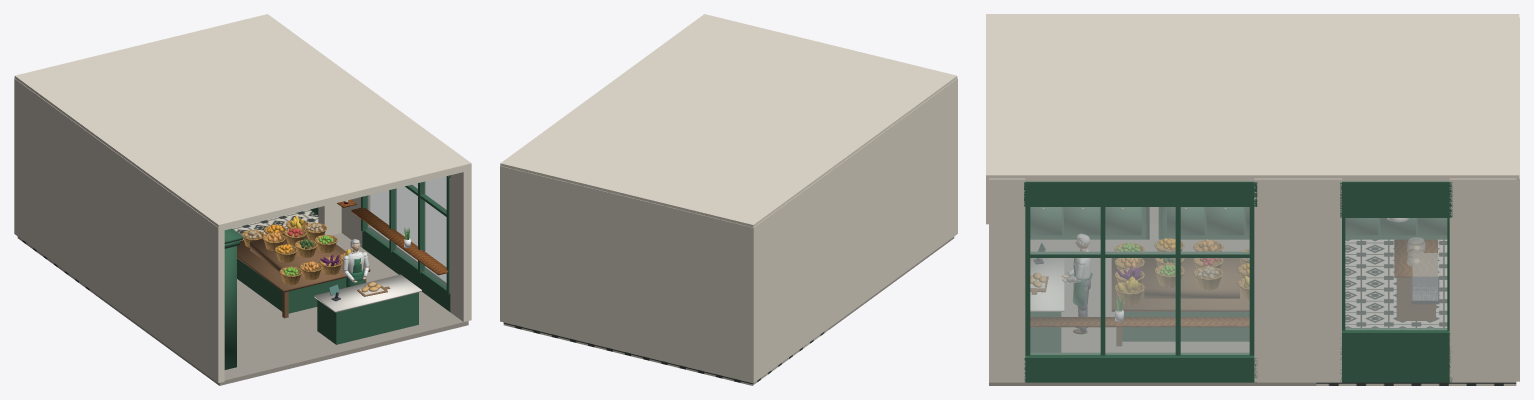
The model's file is bodega-3d.glb.
3 views of the same model, side by side, from view 1: azimuth 30°, elevation 25°; view 2: azimuth 150°, elevation 25°; view 3: azimuth 270°, elevation 25° (orthographic). The views are drawn at different scales.
Parts seen in each view (by area): view 1: Techo_Principal, Pared_Izquierda, Piso_Concreto_ZonaFrontal, Ventana_Vidrio_Principal, Mostrador_Frontal_Base, Pared_Der_PilarFrontal, Pared_Der_ZocaloVent1, Isla_Faldilla_Base, Mostrador_Frontal_Marmol, Estante_Modulo_01_Abarrotes_Pilar_Izq, Isla_Frescos_TableroBase, Ventana_Repisa_Madera (+7 smaller); view 2: Techo_Principal, Pared_Fondo, Pared_Izquierda, Piso_Mosaico_ZonaFondo; view 3: Techo_Principal, Ventana_Vidrio_Principal, Pared_Der_PilarCentral, Pared_Der_PilarFondo, VentanaFondo_Vidrio, Pared_Der_PilarFrontal, Piso_Concreto_ZonaFrontal, Pared_Der_ZocaloVent1, Piso_Mosaico_ZonaFondo, Pared_Der_DintelVent1, Pared_Der_ZocaloVent2, Pared_Der_DintelVent2 (+23 smaller).
Part boxes in pixels (bbox=[...]): Techo_Principal: bbox=[14, 14, 471, 230]; Pared_Izquierda: bbox=[14, 78, 224, 382]; Piso_Concreto_ZonaFrontal: bbox=[94, 233, 468, 385]; Ventana_Vidrio_Principal: bbox=[367, 176, 446, 287]; Mostrador_Frontal_Base: bbox=[317, 292, 418, 344]; Pared_Der_PilarFrontal: bbox=[449, 170, 471, 321]; Pared_Der_ZocaloVent1: bbox=[362, 227, 450, 311]; Isla_Faldilla_Base: bbox=[237, 258, 346, 313]; Mostrador_Frontal_Marmol: bbox=[314, 274, 421, 312]; Estante_Modulo_01_Abarrotes_Pilar_Izq: bbox=[224, 246, 236, 369]; Isla_Frescos_TableroBase: bbox=[237, 240, 370, 292]; Ventana_Repisa_Madera: bbox=[351, 207, 448, 275]; Techo_Principal: bbox=[500, 14, 957, 227]; Pared_Fondo: bbox=[500, 166, 753, 382]; Pared_Izquierda: bbox=[753, 78, 957, 382]; Piso_Mosaico_ZonaFondo: bbox=[503, 322, 828, 385]; Techo_Principal: bbox=[986, 14, 1519, 183]; Ventana_Vidrio_Principal: bbox=[1030, 207, 1249, 354]; Pared_Der_PilarCentral: bbox=[1254, 178, 1341, 382]; Pared_Der_PilarFondo: bbox=[1449, 178, 1516, 382]; VentanaFondo_Vidrio: bbox=[1345, 218, 1447, 329]; Pared_Der_PilarFrontal: bbox=[989, 178, 1025, 382]; Piso_Concreto_ZonaFrontal: bbox=[989, 224, 1316, 385]; Pared_Der_ZocaloVent1: bbox=[1024, 353, 1257, 382]; Piso_Mosaico_ZonaFondo: bbox=[1316, 240, 1516, 385]; Pared_Der_DintelVent1: bbox=[1024, 181, 1257, 206]; Pared_Der_ZocaloVent2: bbox=[1340, 328, 1452, 382]; Pared_Der_DintelVent2: bbox=[1340, 181, 1452, 217].
Bounding box in the file's own units: 6.34 × 3.86 × 8.81.
Materials: 74 (26 with a texture image).
